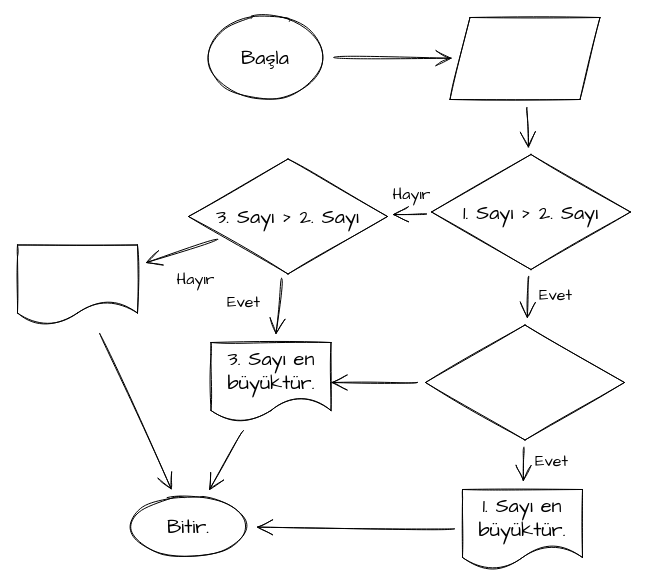
The diagram is 648 pixels wide and 587 high, and some of its shapes have lost their labels. The box of each missing label's shape, as (x1, y1, x2, y2) in pixels:
1. Sayı > 3. Sayı: (424, 324, 624, 440)
1.Sayı, 2.Sayı, 3.Sayı: (449, 16, 600, 100)
2. Sayı en büyüktür.: (16, 244, 138, 325)
